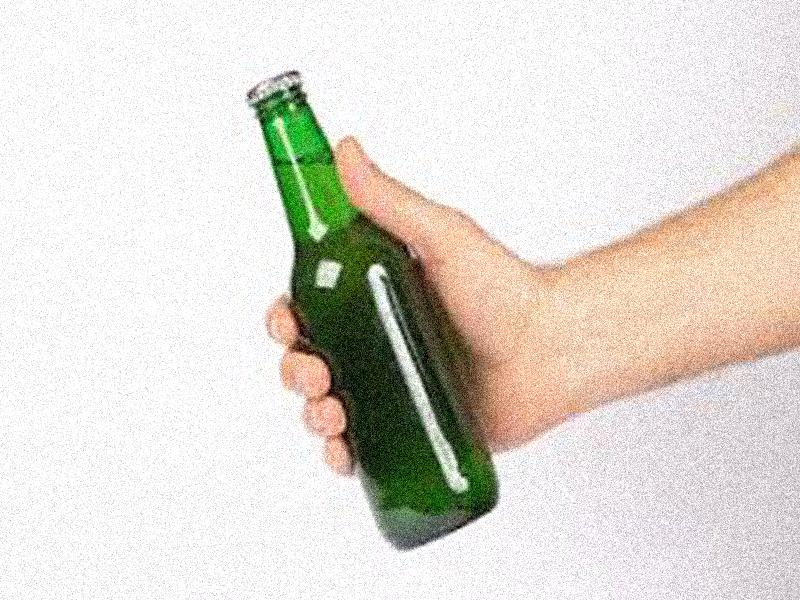Beer: (248, 68, 499, 545)
